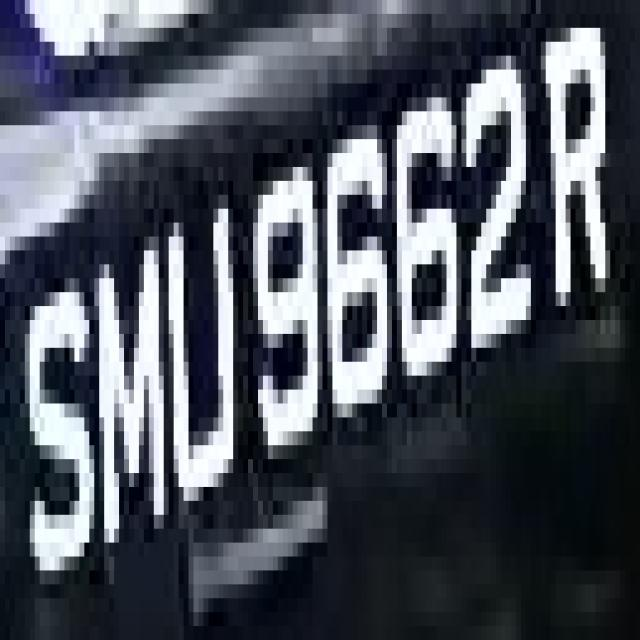2: (456, 28, 536, 403)
6: (377, 70, 452, 487), (312, 97, 392, 473)
9: (228, 139, 318, 529)
M: (99, 181, 169, 584)
R: (521, 28, 615, 348)
S: (20, 195, 89, 612)
U: (159, 181, 248, 584)
